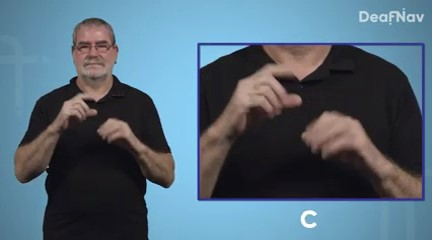C: (224, 50, 309, 128), (54, 89, 100, 121)
